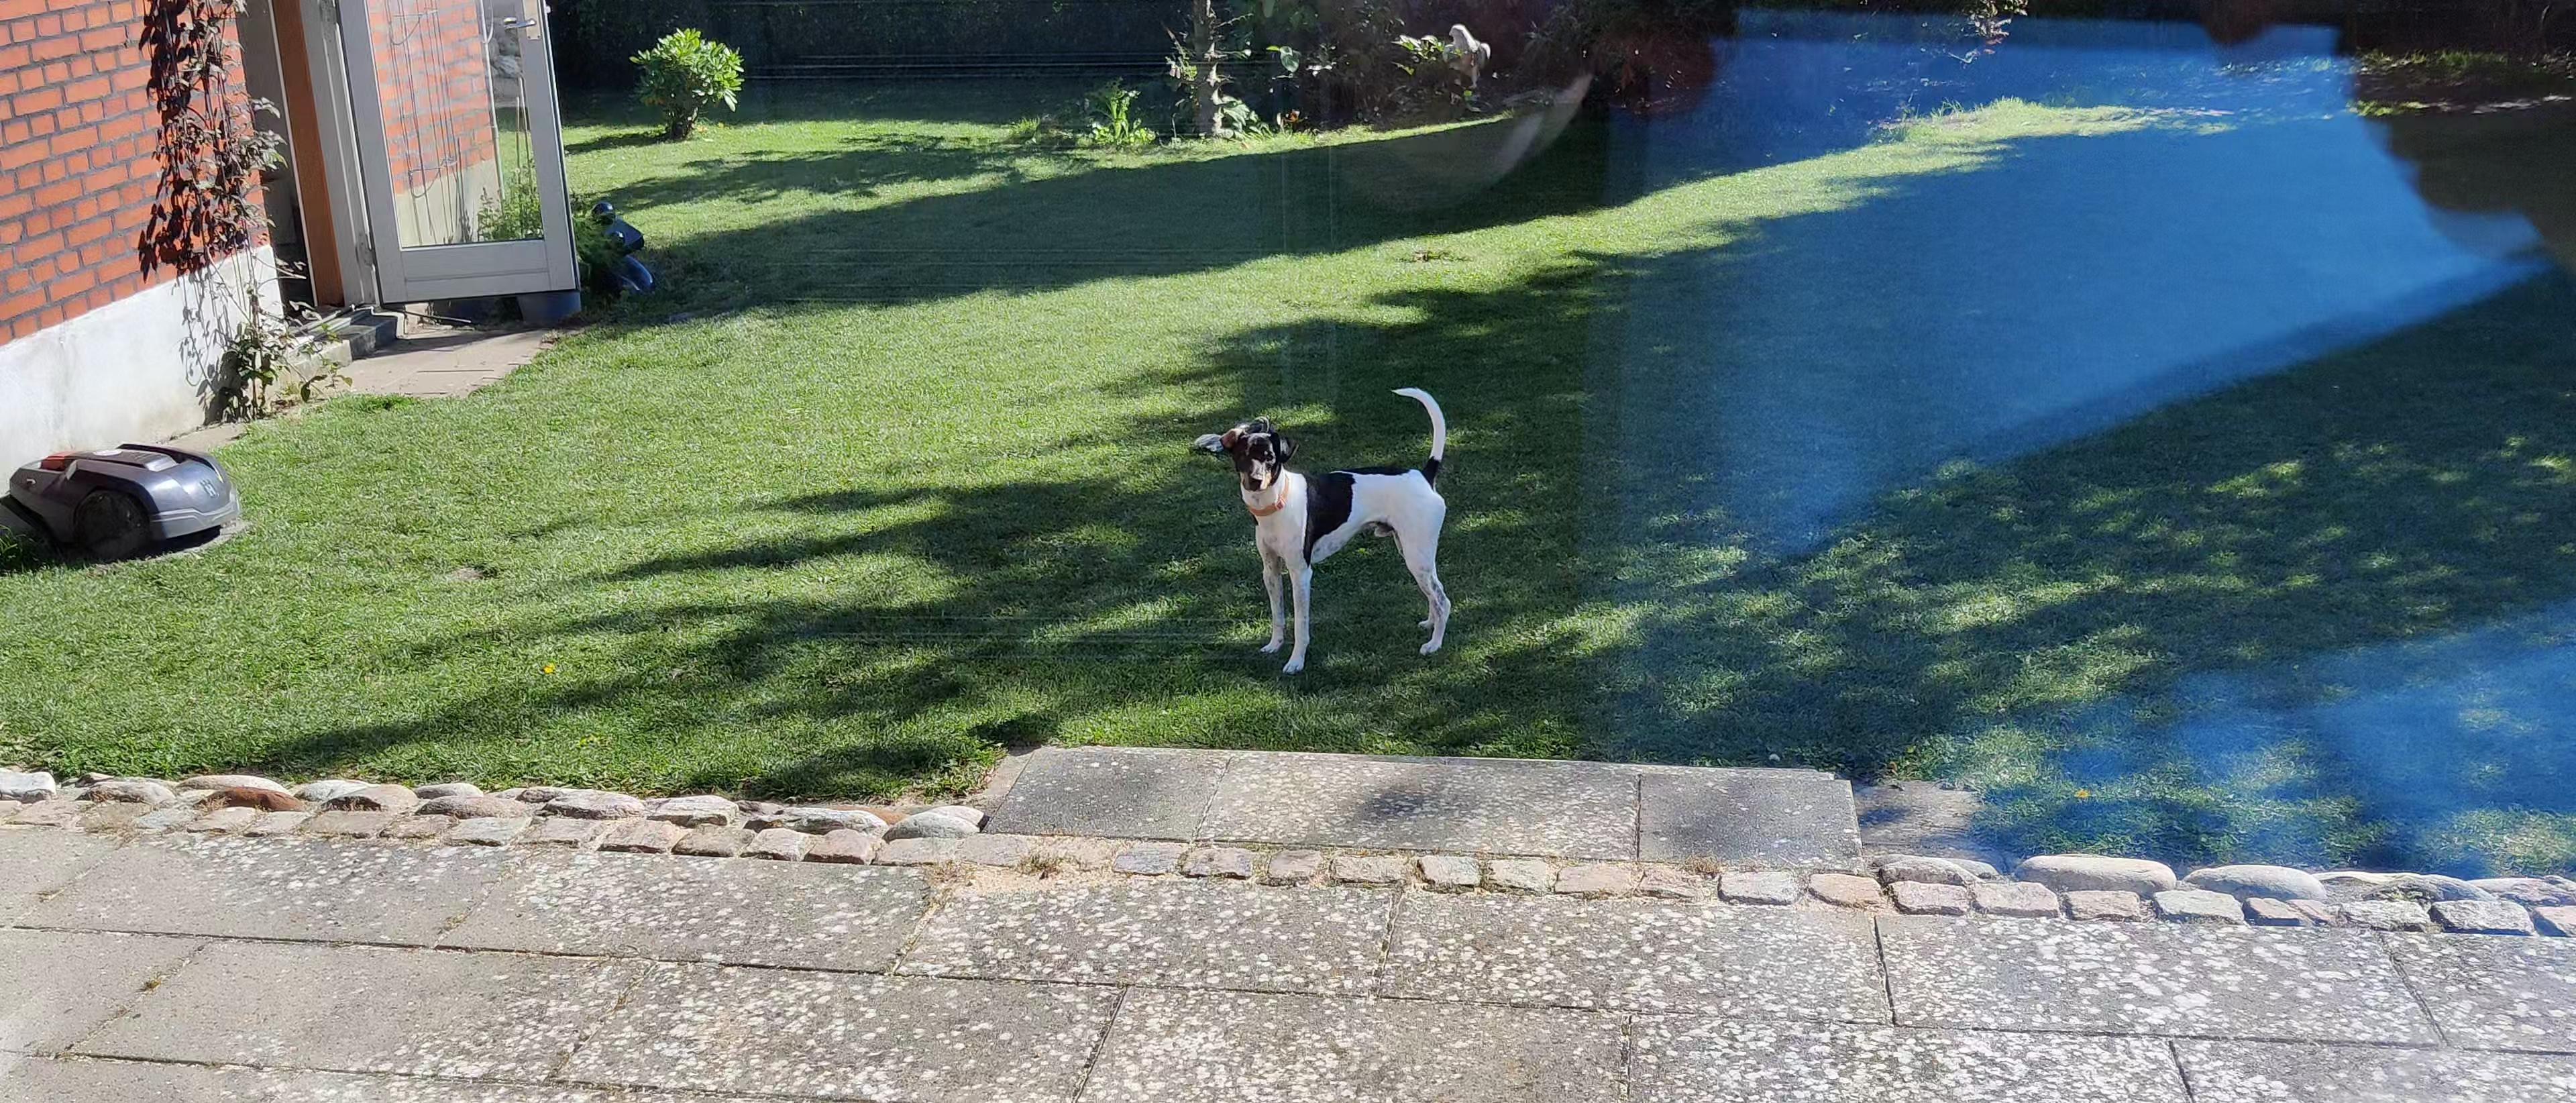Dog: (1212, 385, 1464, 677)
